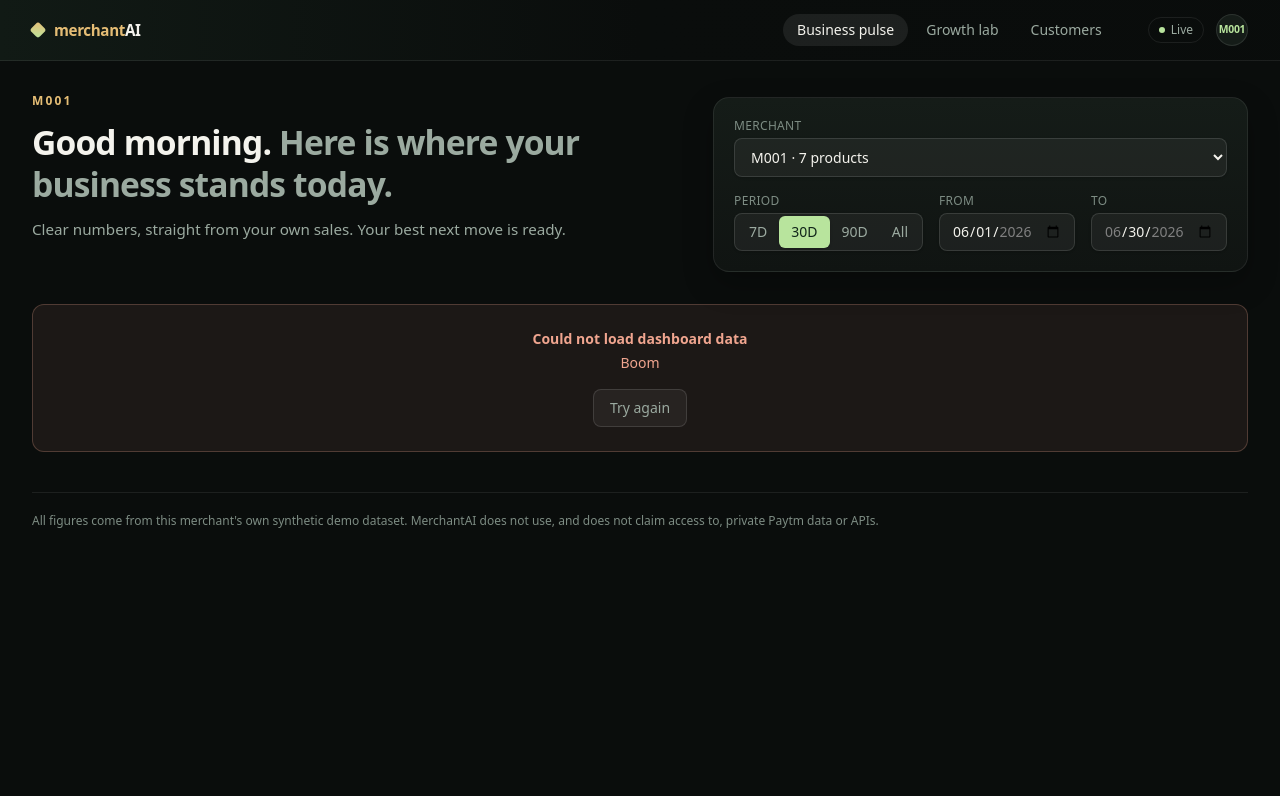
Test: error state › recovers when the retry action succeeds
Check: the text "Could not load dashboard data" is shown, box [532,329,747,348]
Click the button "Try again".
click(640, 408)  # box [593,389,687,427]
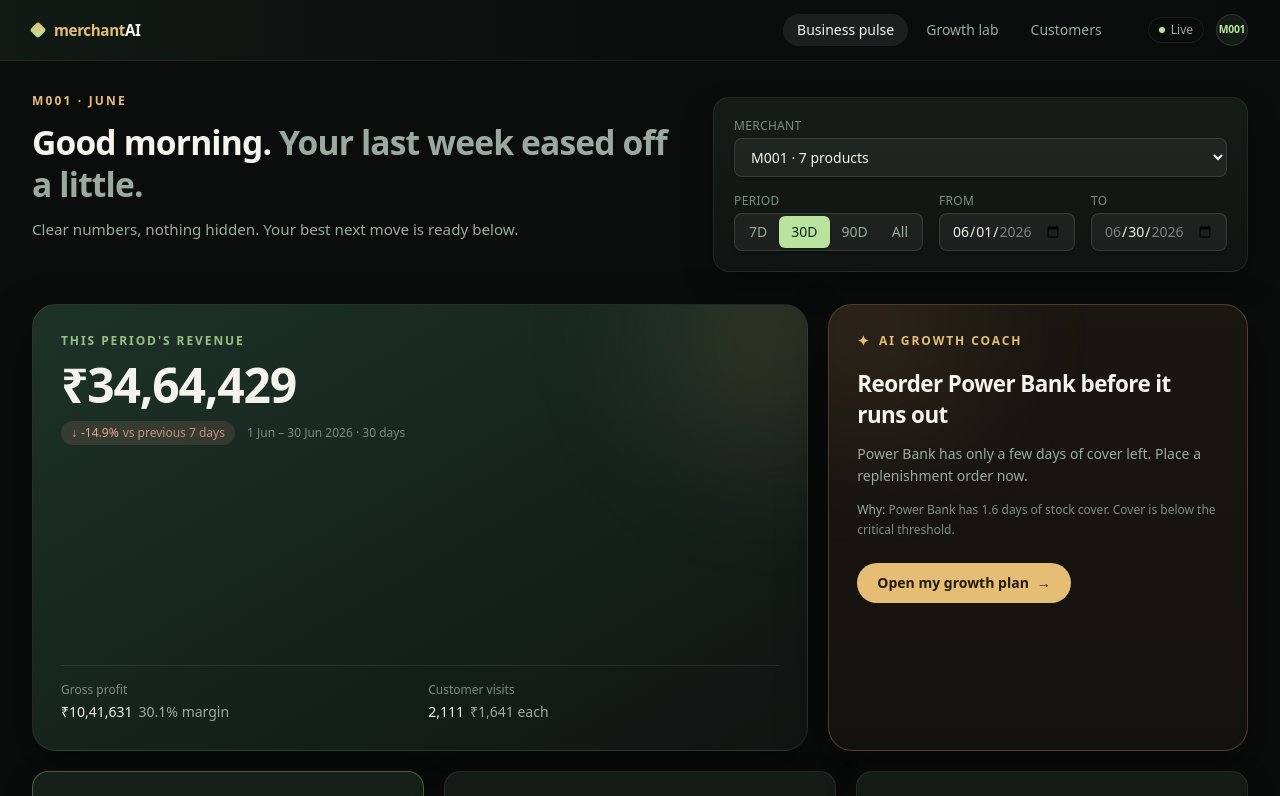
Check: the text "₹34,64,429" is shown, box [61,352,296,417]
Check: the text "Could not load dashboard data" is gone
